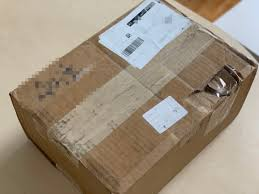damaged package: (185, 59, 246, 117)
